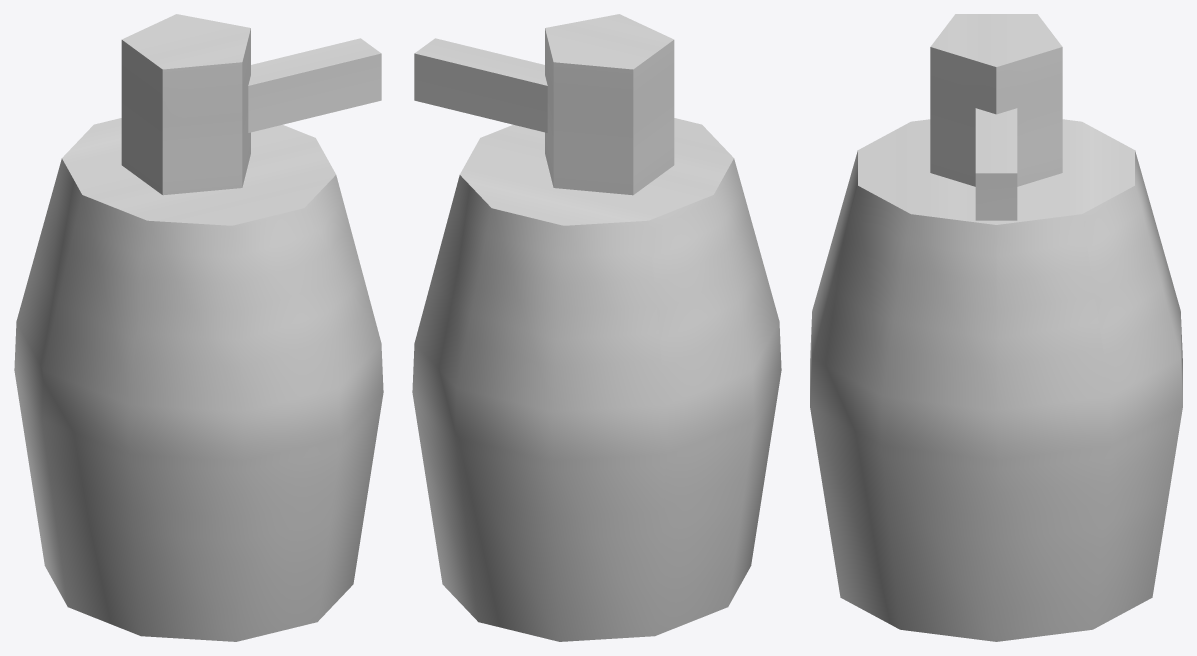
Rendered from grenade.obj.
The picture shows the model from 3 angles, left to right: view 1: azimuth 30°, elevation 25°; view 2: azimuth 150°, elevation 25°; view 3: azimuth 270°, elevation 25°; orthographic projection.
Parts seen in each view (by area): view 1: part_000_gun_olive, part_016_gun_dark, part_022_gun_light; view 2: part_000_gun_olive, part_016_gun_dark, part_022_gun_light; view 3: part_000_gun_olive, part_016_gun_dark, part_022_gun_light.
Boxes of the visible parts, x1,y1,x2,y2 form: part_000_gun_olive: [14, 118, 383, 641]; part_016_gun_dark: [121, 14, 250, 195]; part_022_gun_light: [248, 38, 381, 132]; part_000_gun_olive: [412, 118, 781, 641]; part_016_gun_dark: [545, 14, 674, 195]; part_022_gun_light: [414, 38, 547, 132]; part_000_gun_olive: [810, 119, 1182, 641]; part_016_gun_dark: [930, 14, 1062, 186]; part_022_gun_light: [975, 108, 1017, 220].
Bounding box in the file's own units: 0.1096 × 0.17 × 0.1072.
